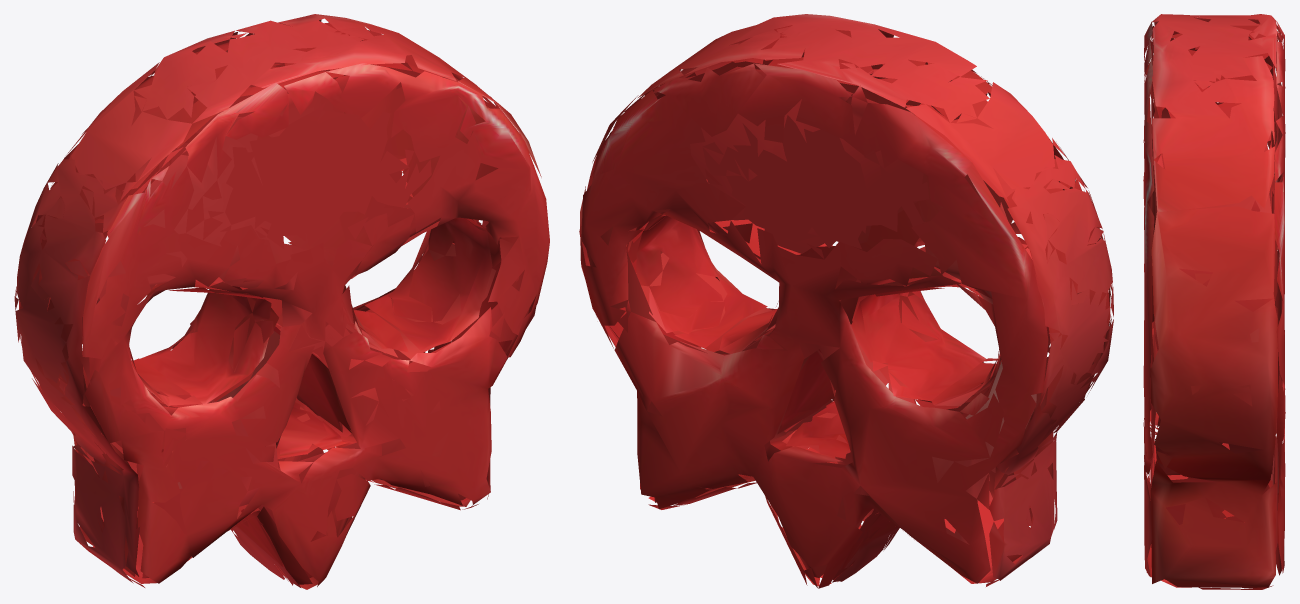
The model's file is corruption.glb.
3 renders of one model, left to right at view 1: azimuth 30°, elevation 25°; view 2: azimuth 150°, elevation 25°; view 3: azimuth 270°, elevation 25°, orthographic. The views are drawn at different scales.
Bounding box in the file's own units: 0.0476 × 0.05 × 0.0127.
Materials: 1 (1 with a texture image).
